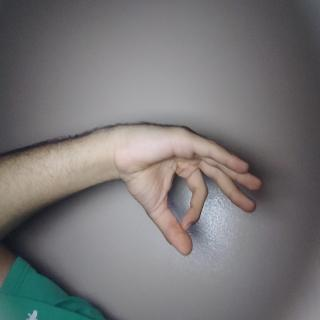Space: (86, 74, 198, 300)
